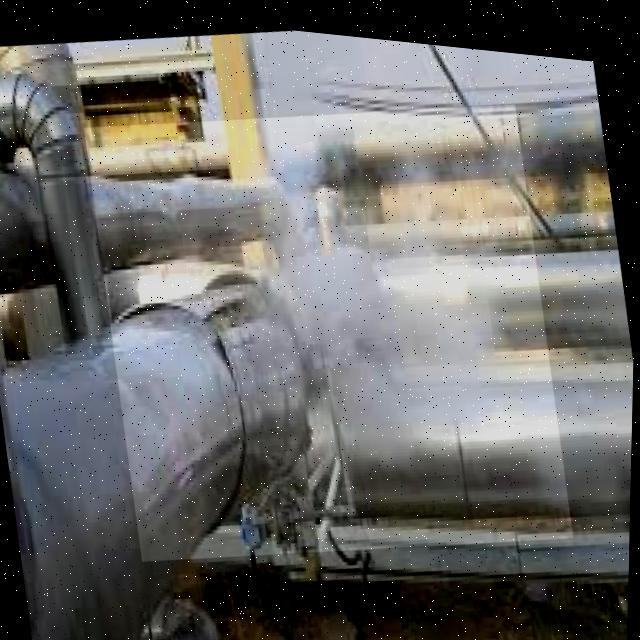corrosion: (240, 150, 423, 374)
